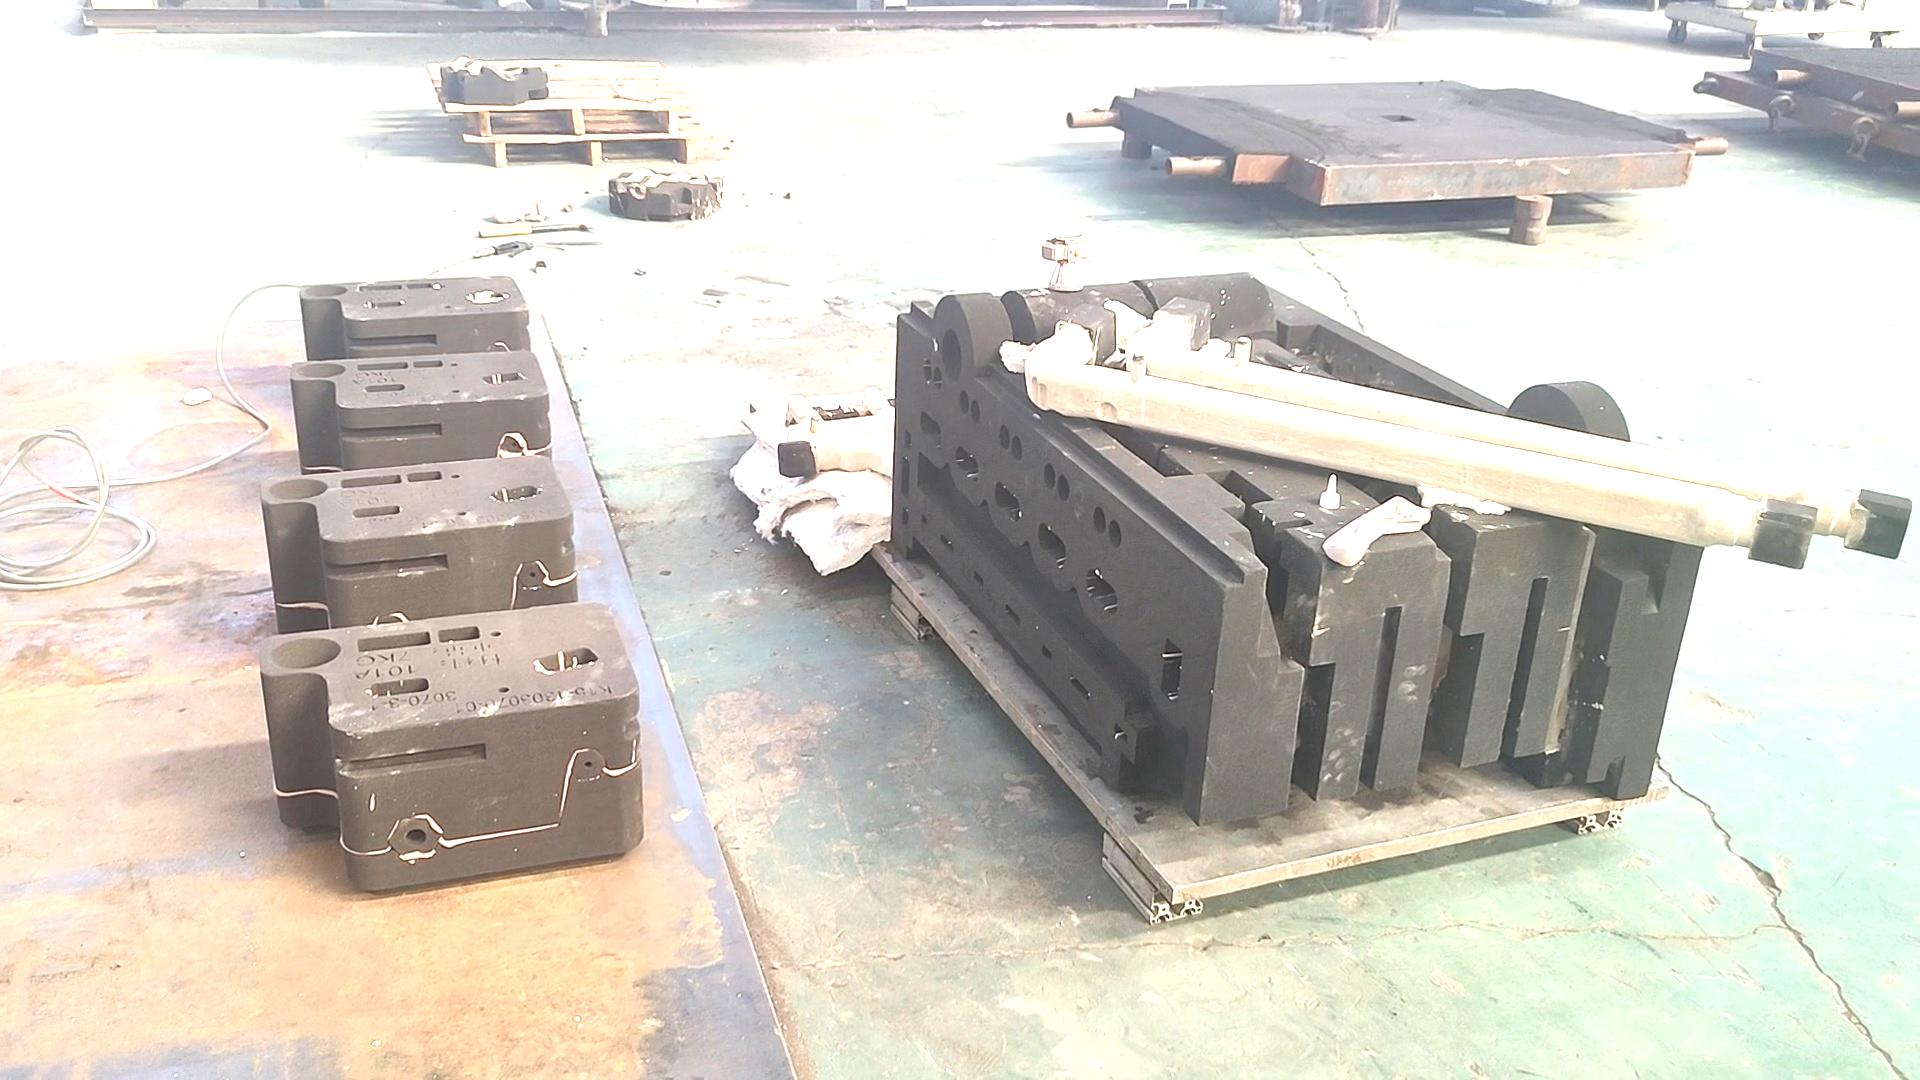pouring hole: (272, 636, 342, 669), (268, 477, 328, 500), (942, 328, 963, 380), (298, 363, 345, 378), (301, 284, 348, 295)
